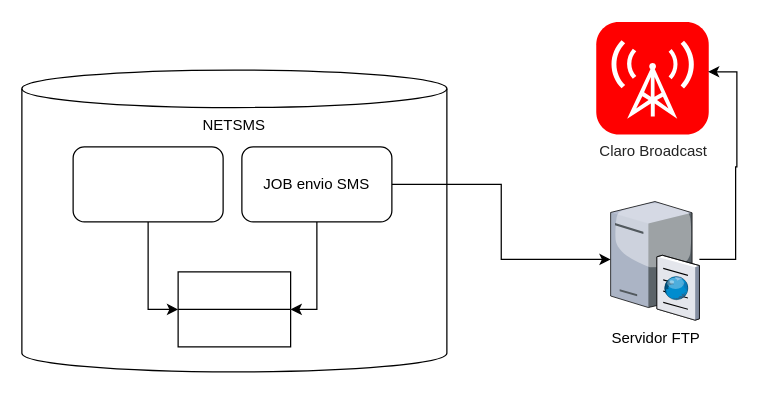
The diagram is 769 pixels wide and 394 high, and some of its shapes have lost their labels. The shapes that lost their labels are listed below. From the top down, each one's box as (x1, y1, x2, y2) in pixels, then its label:
(72, 146, 223, 222): JOB Prepara SMS
(177, 271, 291, 347): Protocolo SMS
